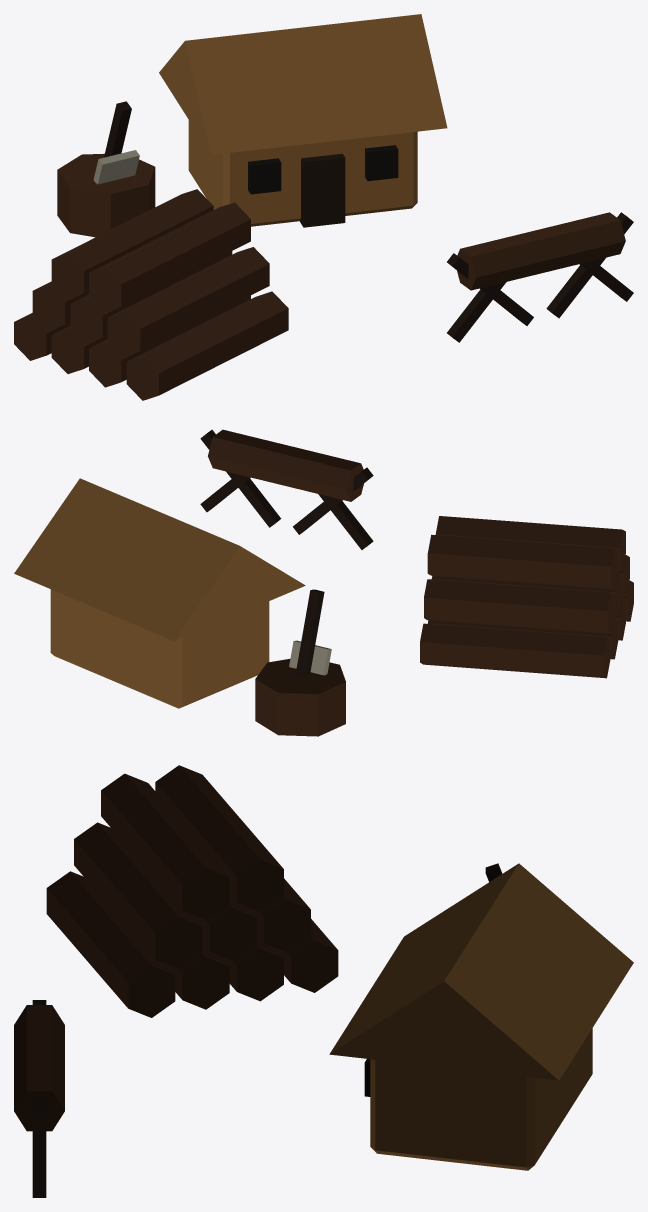
File: lumber.obj
The picture shows the model from 3 angles, top to bottom: view 1: azimuth 30°, elevation 25°; view 2: azimuth 150°, elevation 25°; view 3: azimuth 270°, elevation 25°; orthographic projection. The views are drawn at different scales.
Visible parts, largest first — view 1: core_wood, core_plank, core_wood_dark, core_window, core_metal; view 2: core_wood, core_plank, core_wood_dark, core_metal; view 3: core_plank, core_wood, core_wood_dark.
Part boxes in pixels (x1,y1,x2,y2): core_wood: [14, 153, 625, 400]; core_plank: [159, 14, 447, 226]; core_wood_dark: [104, 101, 633, 342]; core_window: [248, 145, 398, 194]; core_metal: [93, 150, 139, 184]; core_wood: [208, 429, 633, 736]; core_plank: [14, 478, 305, 708]; core_wood_dark: [200, 429, 373, 678]; core_metal: [289, 640, 331, 675]; core_plank: [329, 863, 633, 1170]; core_wood: [14, 765, 338, 1131]; core_wood_dark: [32, 863, 502, 1197].
Bounding box in the file's own units: 0.4211 × 0.1288 × 0.3646.
